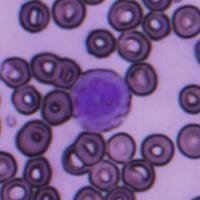E: (69, 68, 132, 132)
